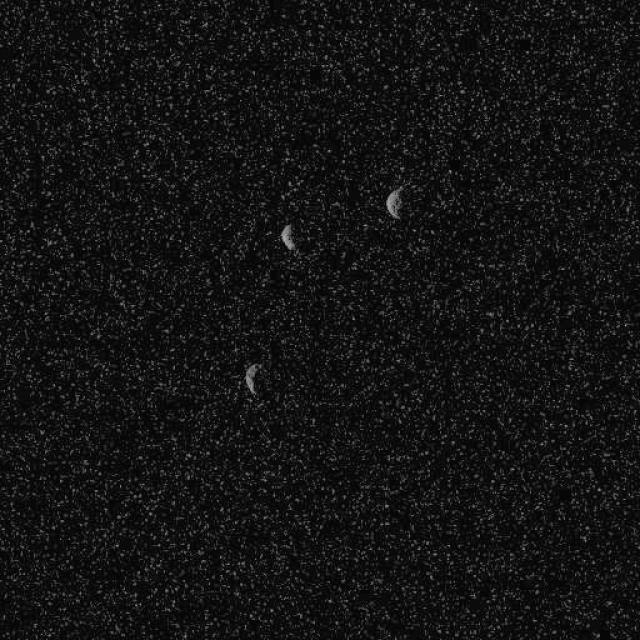D2: (384, 185, 404, 219), (242, 362, 260, 396), (279, 222, 296, 252)
